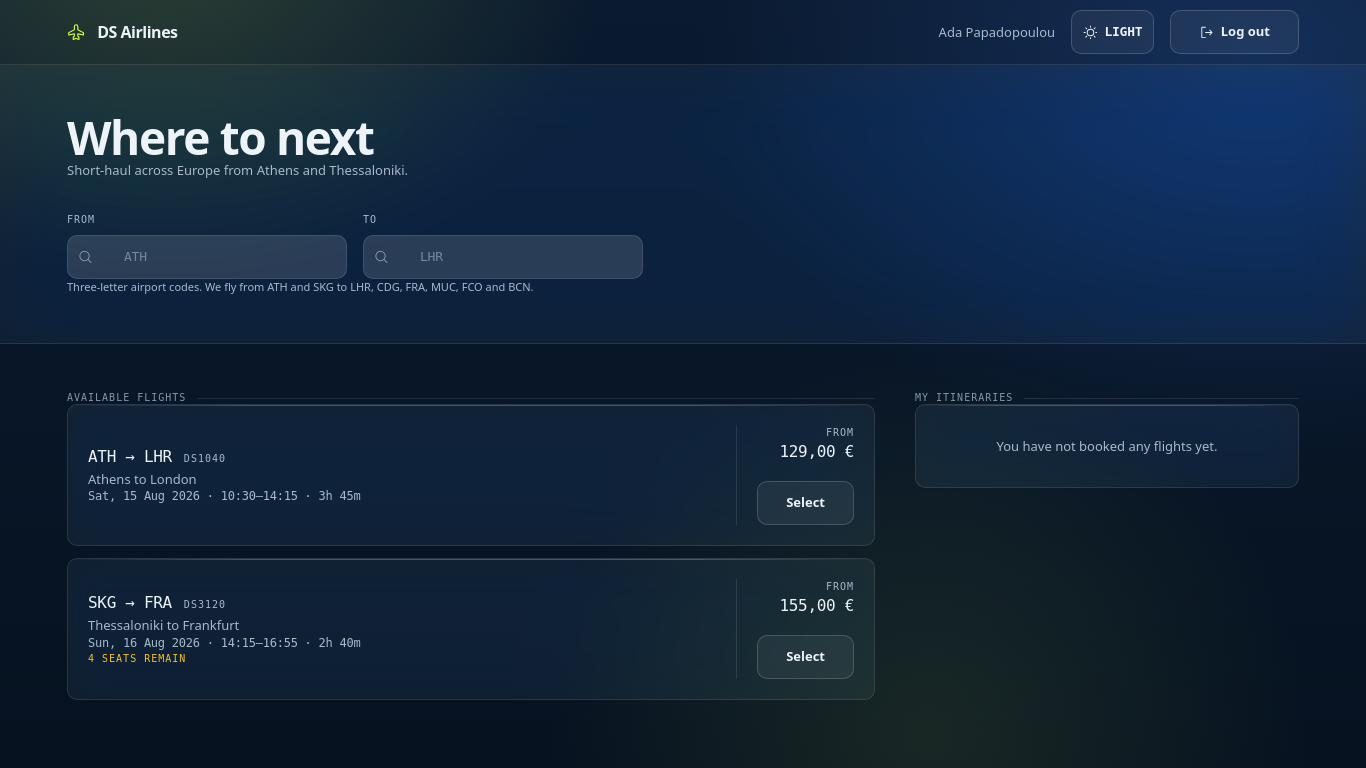
Dashboard › booking › closes the dialog on cancel without booking
This screenshot has width=1366, height=768.
Check: the heading "Where to next" is shown, box [67, 106, 374, 168]
Click the button "Select" below "129,00 €" at (806, 503), box [757, 481, 854, 525]
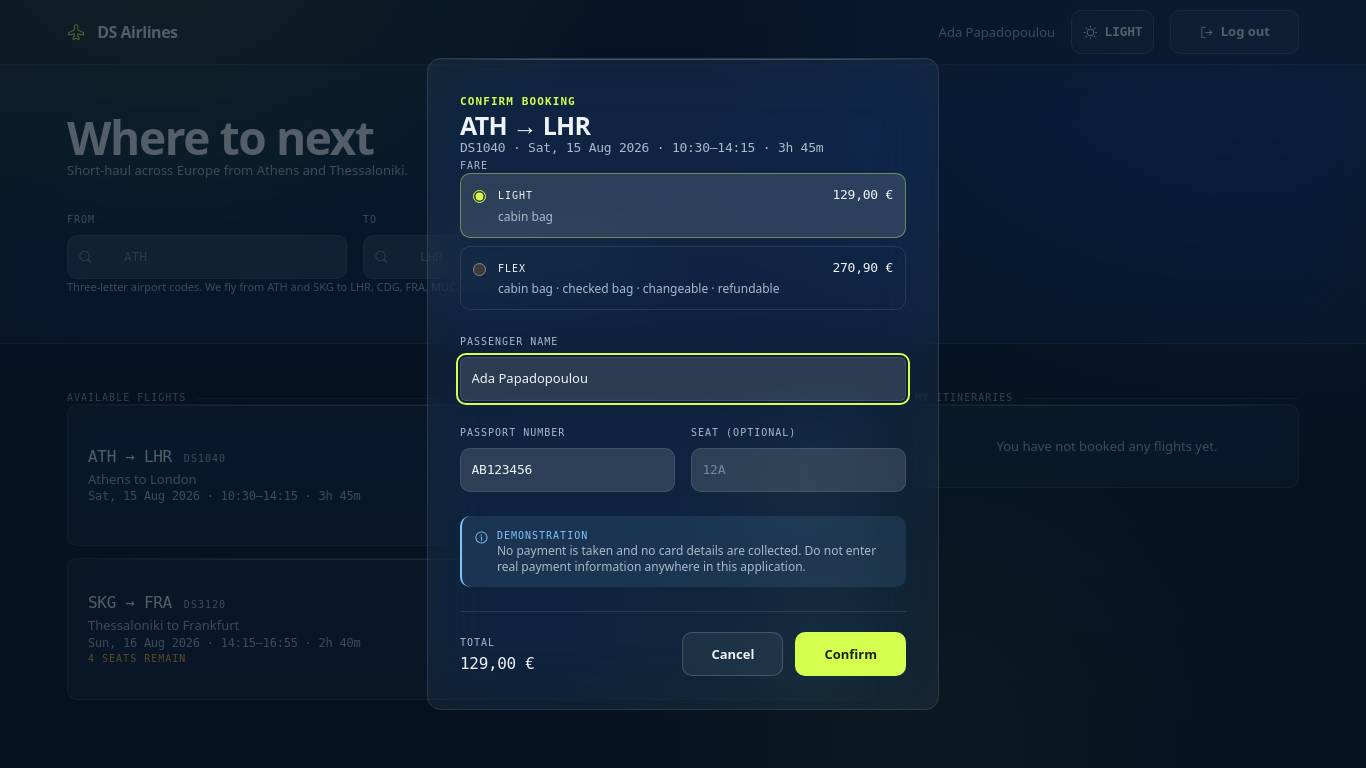
Click the button "Cancel" at (733, 654), box [682, 632, 783, 676]
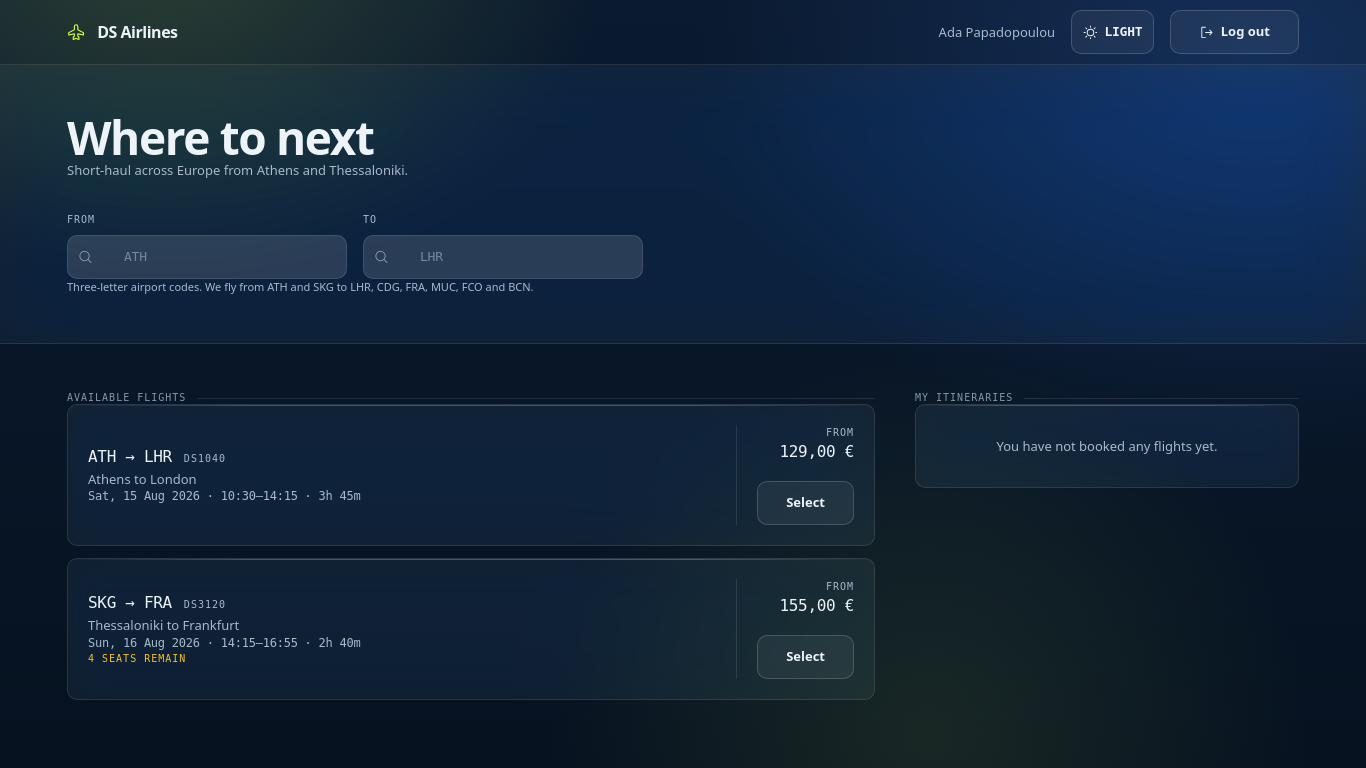
Check: the dialog is gone
